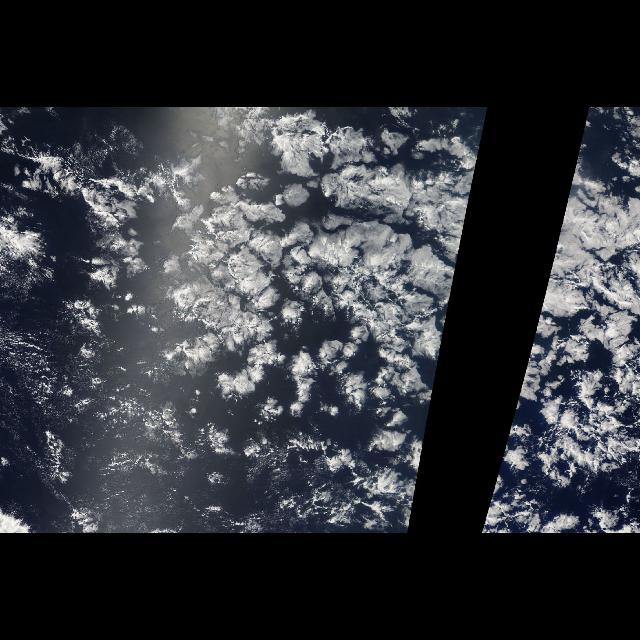Flower: (146, 116, 487, 490), (510, 126, 640, 430)
Sugar: (3, 340, 183, 516)
